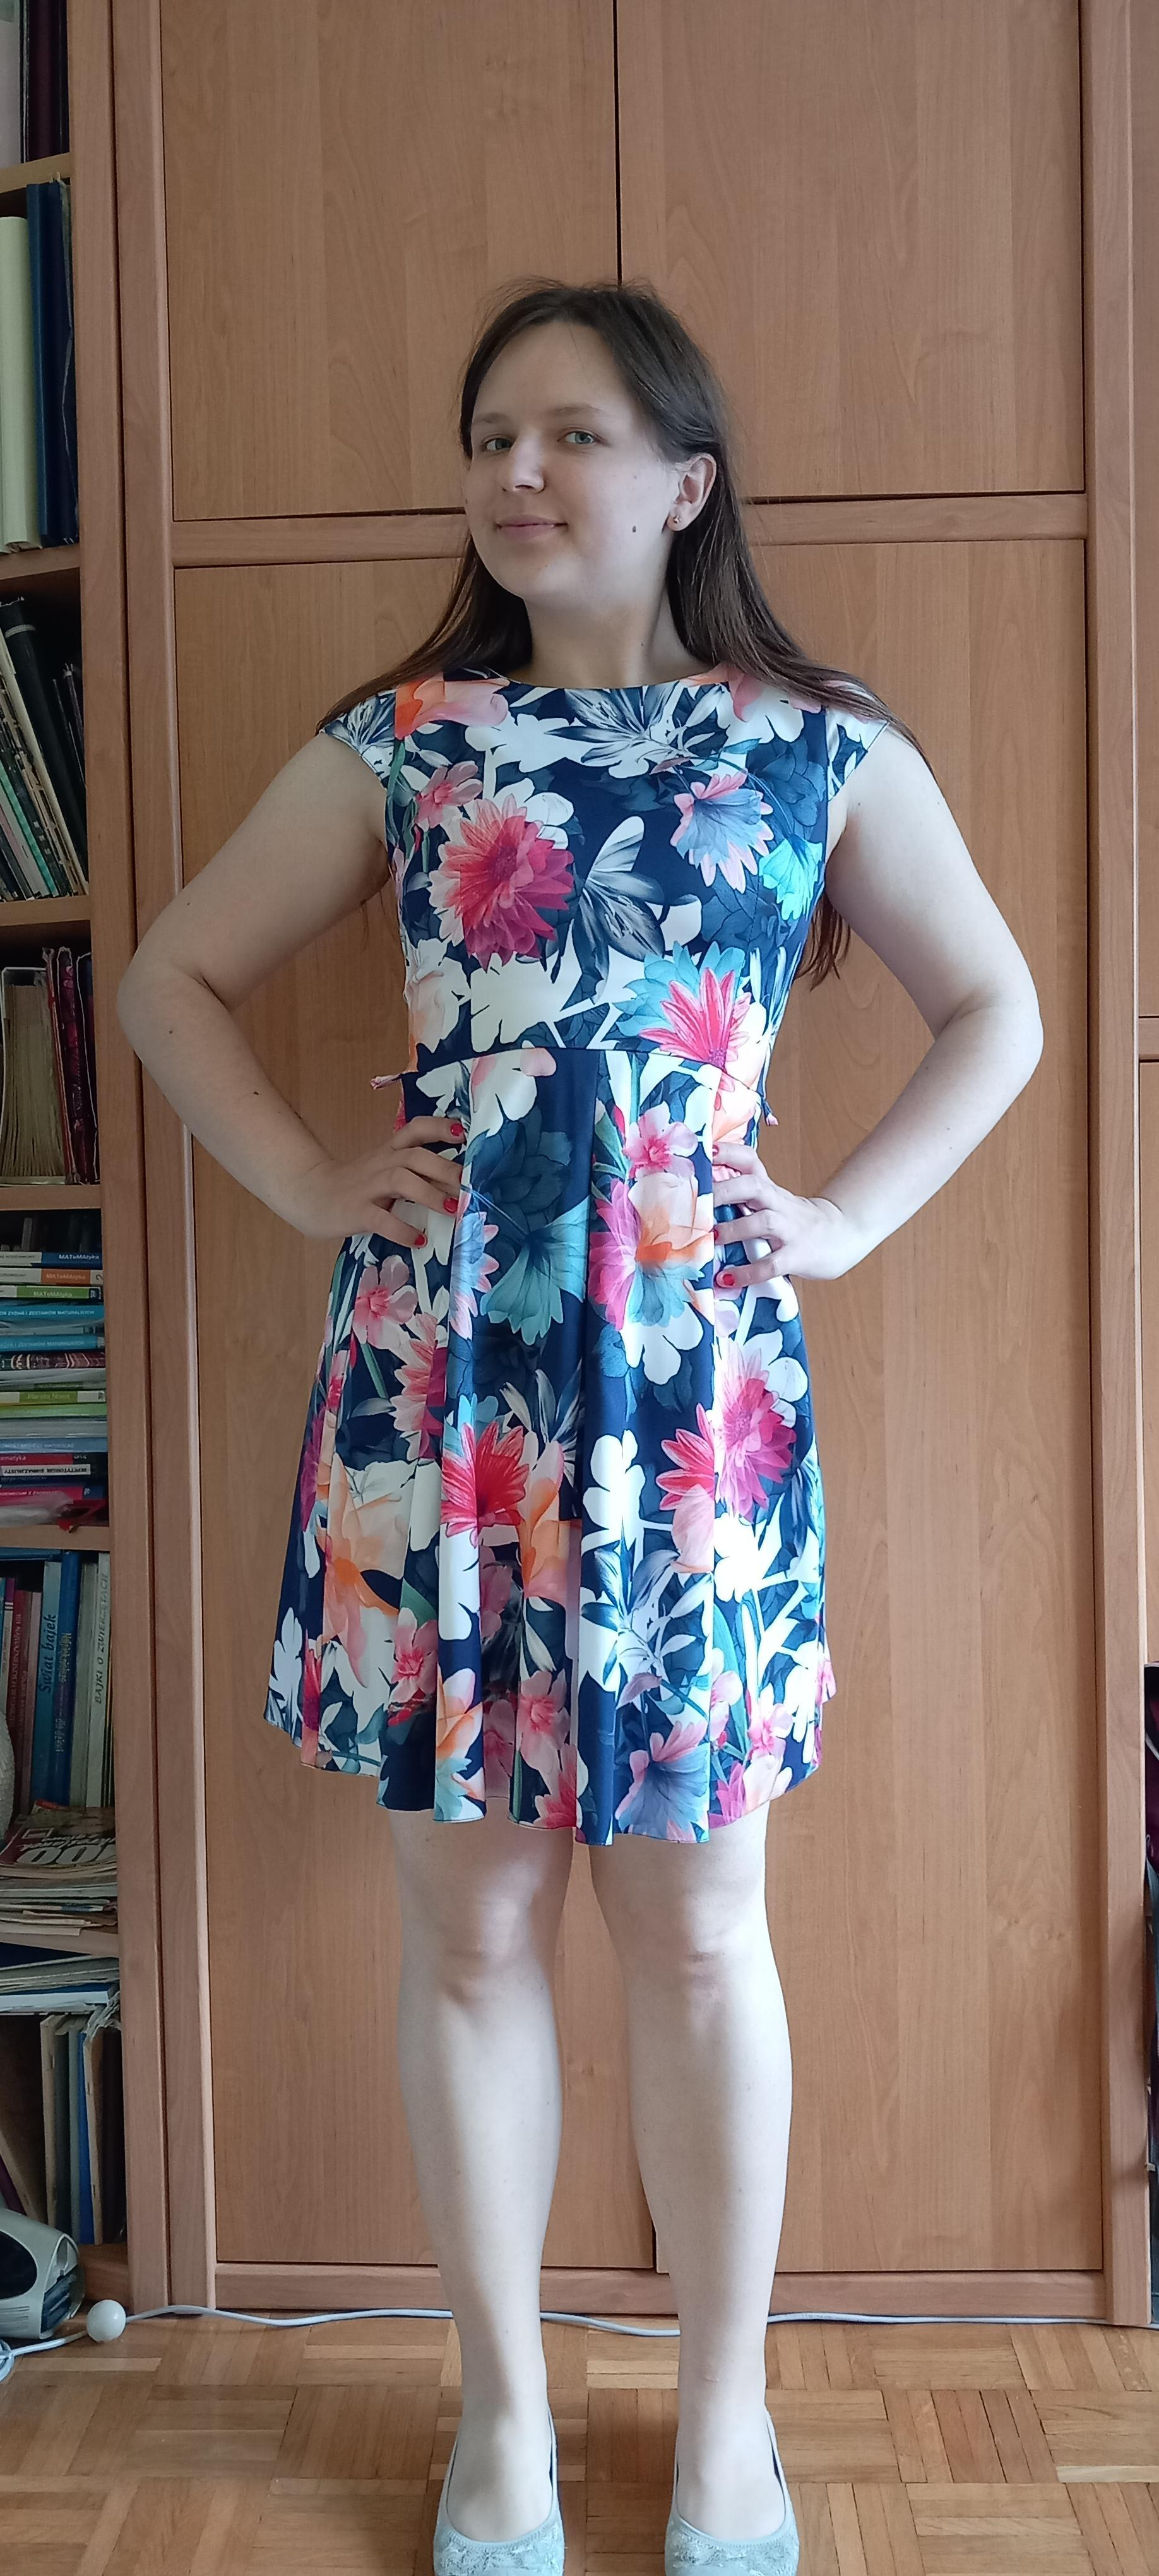dress: (264, 665, 895, 1845)
